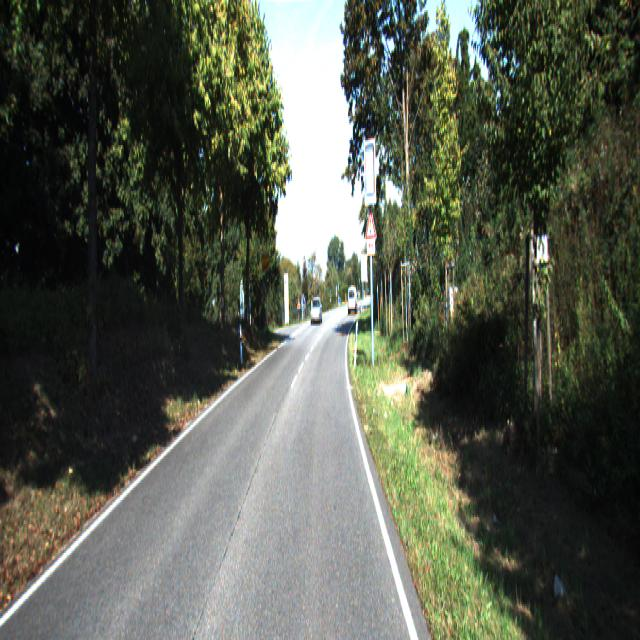Car: (310, 298, 322, 325)
